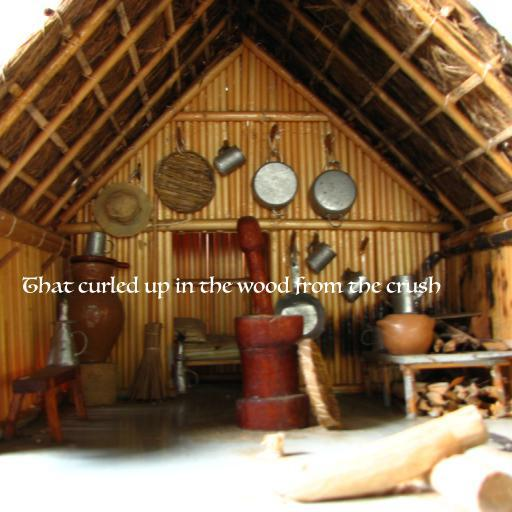Luminari: (21, 276, 441, 299)
